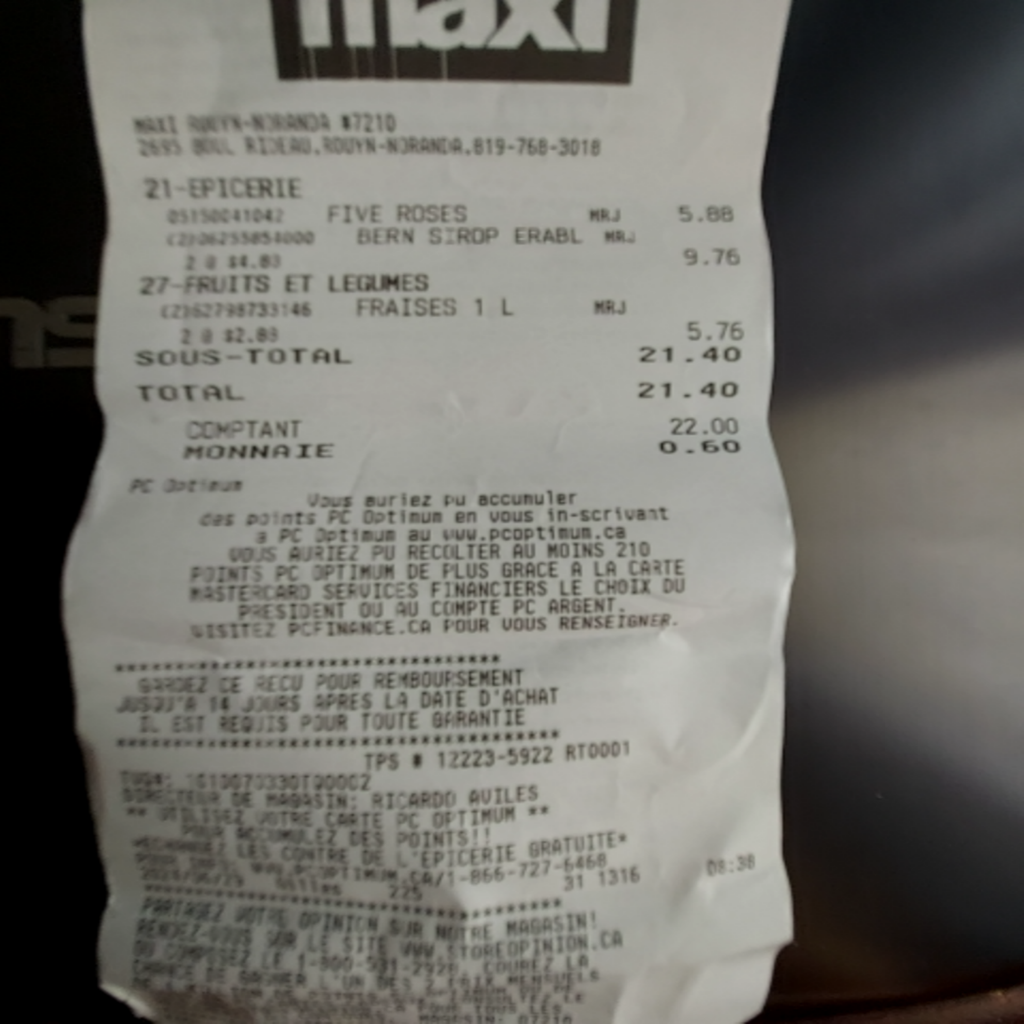recipt: (61, 0, 795, 1009)
